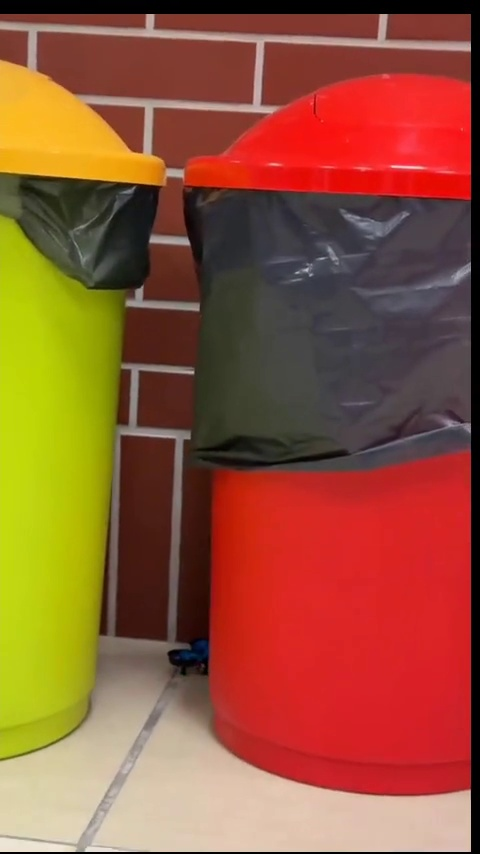drone: (169, 636, 208, 674)
